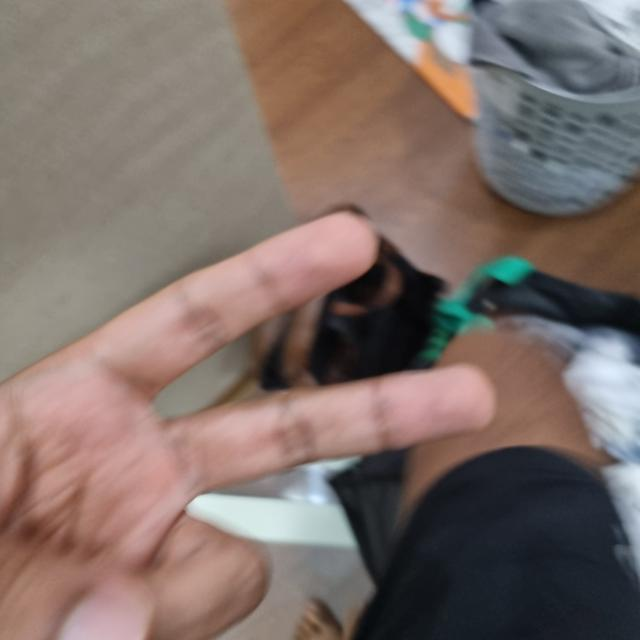Scissors: (0, 215, 495, 639)
